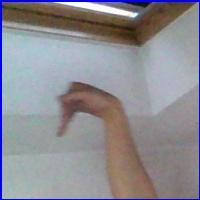del: (55, 77, 130, 144)
